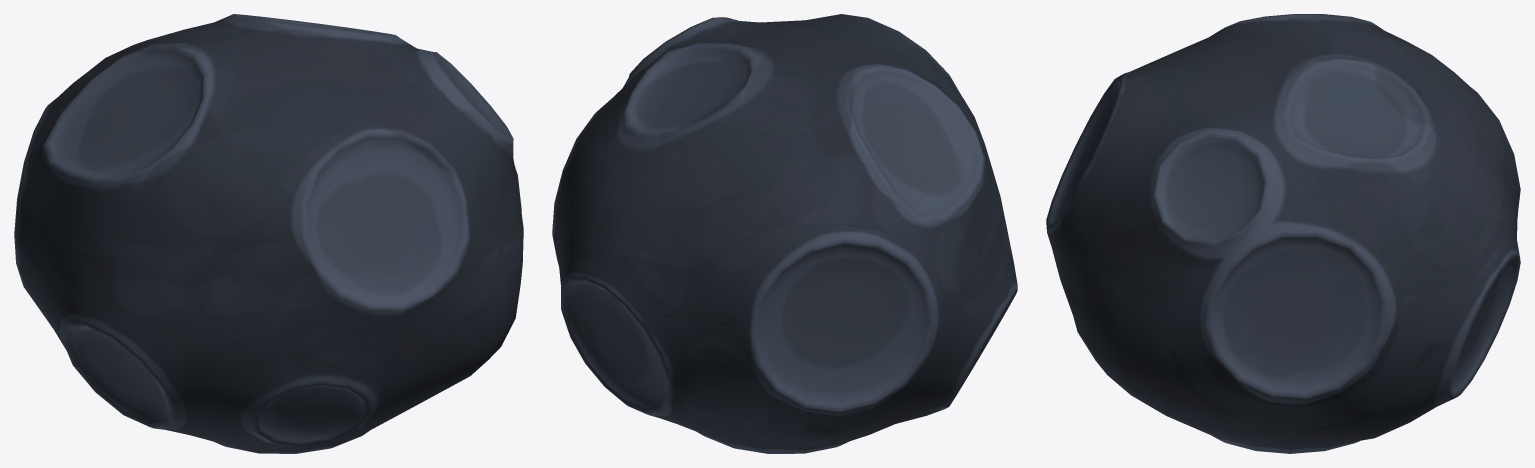
File: Asteroid_Mesh_3.fbx
3 renders of one model, left to right at view 1: azimuth 30°, elevation 25°; view 2: azimuth 150°, elevation 25°; view 3: azimuth 270°, elevation 25°, orthographic. The views are drawn at different scales.
Visible parts, largest first — view 1: Asteroid_Mesh_3; view 2: Asteroid_Mesh_3; view 3: Asteroid_Mesh_3.
Part boxes in pixels (x1,y1,x2,y2): Asteroid_Mesh_3: [14, 14, 523, 453]; Asteroid_Mesh_3: [552, 14, 1017, 453]; Asteroid_Mesh_3: [1046, 14, 1520, 453].
Size of the model in its own units: 7.84 by 6.81 by 8.03.
